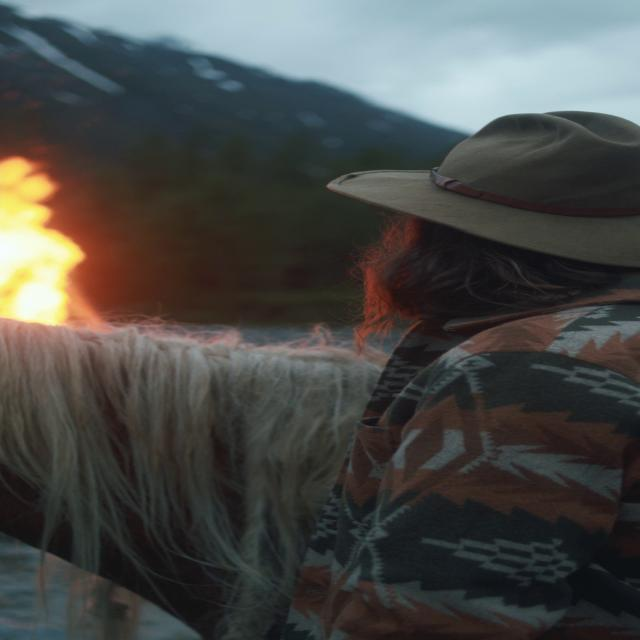Fire: (0, 144, 94, 334)
